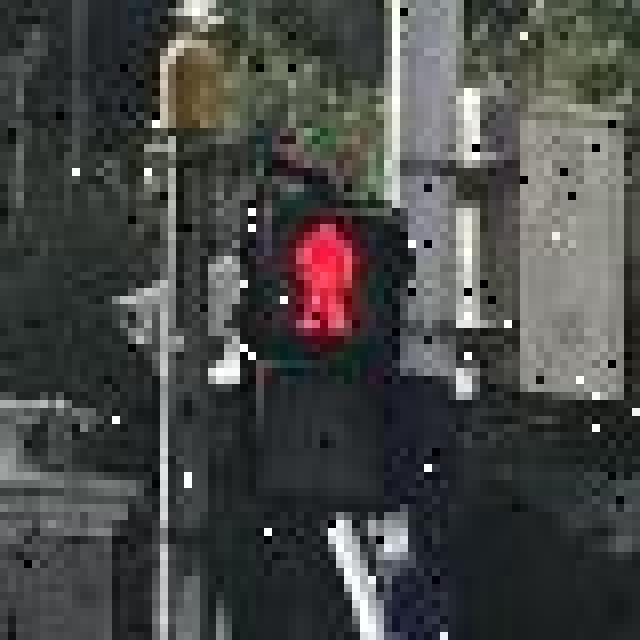redlight: (232, 192, 424, 520)
